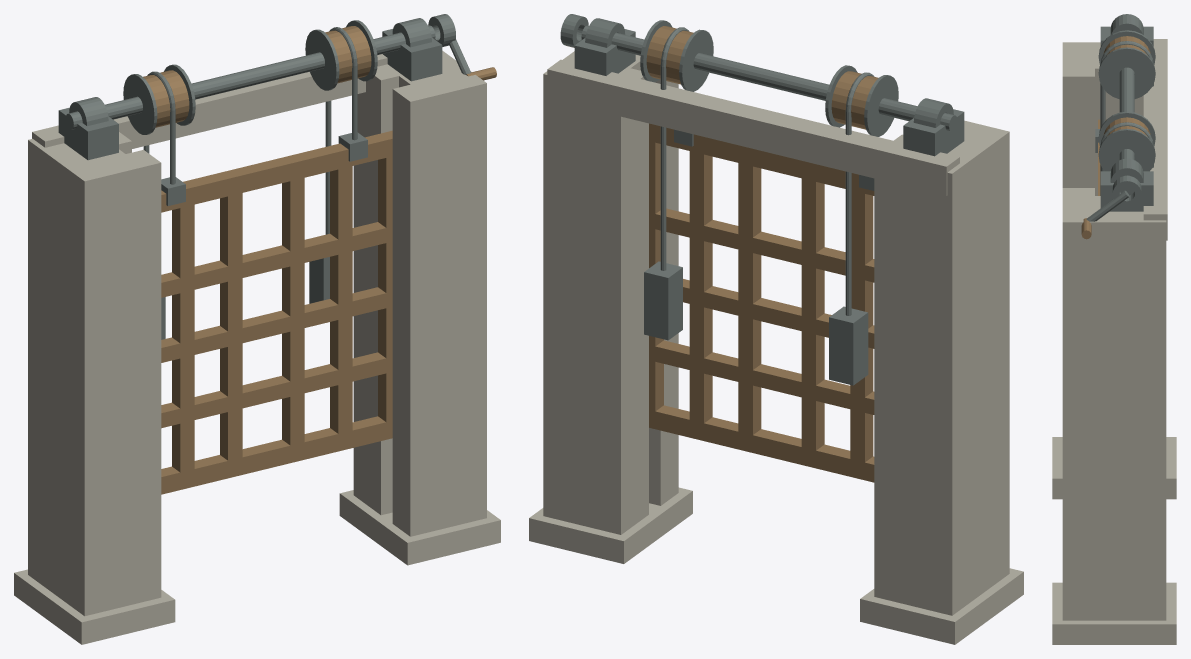
3 renders of one model, left to right at view 1: azimuth 30°, elevation 25°; view 2: azimuth 150°, elevation 25°; view 3: azimuth 270°, elevation 25°, orthographic. The views are drawn at different scales.
Parts seen in each view (by area): view 1: LeftWholeSlottedStonePier, RightWholeSlottedStonePier, WholeContinuousRaisedPortcullisLattice, WholeRearOverheadCrosshead, RightWholeGroundFoot, LeftWholeGroundFoot, WholeTransverseDrumAxle, LeftWholeShaftBearingSeat, RightWholeShaftBearingSeat, RightWholeWindingDrum, LeftWholeWindingDrum, RightWholeContinuousSuspensionRope (+6 smaller); view 2: LeftWholeSlottedStonePier, RightWholeSlottedStonePier, WholeContinuousRaisedPortcullisLattice, WholeRearOverheadCrosshead, RightWholeGroundFoot, LeftWholeGroundFoot, WholeTransverseDrumAxle, LeftWholeHangingWeight, RightWholeHangingWeight, LeftWholeShaftBearingSeat, RightWholeShaftBearingSeat, LeftWholeWindingDrum (+7 smaller); view 3: RightWholeSlottedStonePier, LeftWholeSlottedStonePier, RightWholeGroundFoot, WholeRearOverheadCrosshead, LeftWholeDrumFlange0.16, RightWholeDrumFlange0.16, LeftWholeGroundFoot, RightWholeShaftBearingSeat, WholeTransverseDrumAxle, WholeSideCrankHub, RightWholeAxleBearing, LeftWholeAxleBearing (+8 smaller).
Boxes of the visible parts, x1,y1,x2,y2 form: LeftWholeSlottedStonePier: (28,132,161,616); RightWholeSlottedStonePier: (353,50,486,536); WholeContinuousRaisedPortcullisLattice: (161,130,392,494); WholeRearOverheadCrosshead: (32,54,387,148); RightWholeGroundFoot: (339,490,500,565); LeftWholeGroundFoot: (14,569,175,644); WholeTransverseDrumAxle: (65,25,435,129); LeftWholeShaftBearingSeat: (58,107,118,160); RightWholeShaftBearingSeat: (382,29,442,81); RightWholeWindingDrum: (325,26,371,83); LeftWholeWindingDrum: (143,70,189,127); RightWholeContinuousSuspensionRope: (325,27,357,234); LeftWholeSlottedStonePier: (874,120,1009,615); RightWholeSlottedStonePier: (543,51,678,534); WholeContinuousRaisedPortcullisLattice: (649,123,874,482); WholeRearOverheadCrosshead: (547,59,959,195); RightWholeGroundFoot: (529,487,692,563); LeftWholeGroundFoot: (860,568,1023,644); WholeTransverseDrumAxle: (581,25,957,131); LeftWholeHangingWeight: (829,306,868,385); RightWholeHangingWeight: (644,261,682,340); LeftWholeShaftBearingSeat: (903,109,964,156); RightWholeShaftBearingSeat: (574,29,635,75); LeftWholeWindingDrum: (831,71,878,129); RightWholeSlottedStonePier: (1062,188,1166,620); LeftWholeSlottedStonePier: (1062,42,1143,195); RightWholeGroundFoot: (1052,582,1176,644); WholeRearOverheadCrosshead: (1143,39,1167,240); LeftWholeDrumFlange0.16: (1098,47,1155,99); RightWholeDrumFlange0.16: (1098,128,1155,171); LeftWholeGroundFoot: (1052,437,1176,499); RightWholeShaftBearingSeat: (1100,171,1153,211); WholeTransverseDrumAxle: (1119,67,1134,193); WholeSideCrankHub: (1112,175,1141,207); RightWholeAxleBearing: (1110,158,1143,182); LeftWholeAxleBearing: (1110,14,1143,34).
Bounding box in the file's own units: 3.6 × 4.11 × 0.98.
